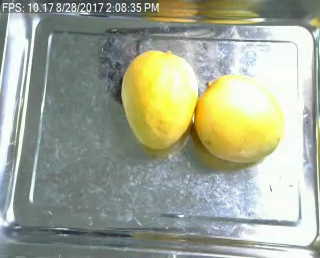Mango: (195, 74, 283, 163), (121, 49, 198, 148)
